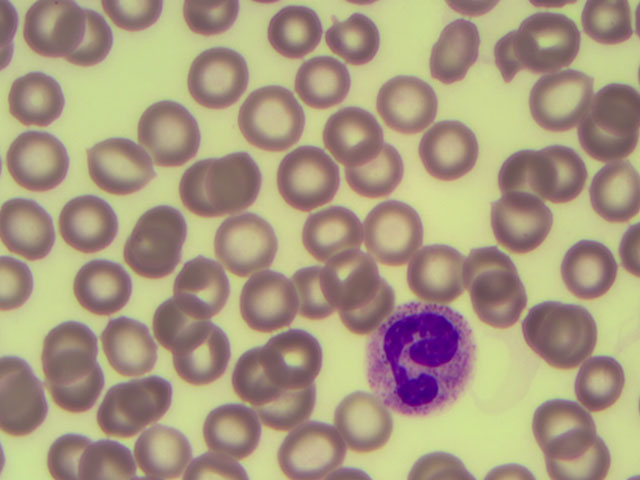RBC: (545, 418, 606, 480), (281, 418, 342, 480), (141, 418, 202, 480), (68, 418, 129, 480), (21, 2, 82, 63), (68, 7, 129, 68), (9, 70, 70, 131), (11, 129, 72, 190), (4, 197, 65, 258), (63, 193, 124, 254), (94, 134, 155, 195), (134, 111, 195, 172), (194, 45, 255, 106), (187, 2, 248, 63), (319, 4, 380, 65), (294, 50, 355, 111), (239, 84, 300, 145), (321, 104, 382, 165), (345, 127, 406, 188), (373, 78, 434, 139), (420, 123, 481, 184), (428, 24, 489, 85), (481, 27, 542, 88), (511, 10, 572, 71), (536, 65, 597, 126), (579, 77, 640, 138), (579, 101, 640, 162), (579, 167, 640, 228), (526, 141, 587, 202), (496, 147, 557, 208), (481, 186, 542, 247), (562, 235, 623, 296), (534, 304, 595, 365), (569, 358, 630, 419), (528, 391, 589, 452), (336, 390, 397, 451), (254, 376, 315, 437), (264, 325, 325, 386), (232, 346, 293, 407), (199, 397, 260, 458), (100, 374, 161, 435), (123, 370, 184, 431), (98, 321, 159, 382), (48, 359, 109, 420), (36, 321, 97, 382), (77, 265, 138, 326), (122, 225, 183, 286), (140, 201, 201, 262), (170, 155, 231, 216), (200, 149, 261, 210), (269, 142, 330, 203), (311, 198, 372, 259), (318, 247, 379, 308), (285, 263, 346, 324), (233, 267, 294, 328), (214, 210, 275, 271), (185, 249, 246, 310), (155, 283, 216, 344), (177, 326, 238, 387), (327, 267, 388, 328), (363, 195, 424, 256), (406, 234, 467, 295), (440, 235, 501, 296), (462, 271, 523, 332), (273, 1, 334, 61), (1, 375, 61, 436), (579, 1, 640, 61)
WBC: (367, 300, 472, 413)
